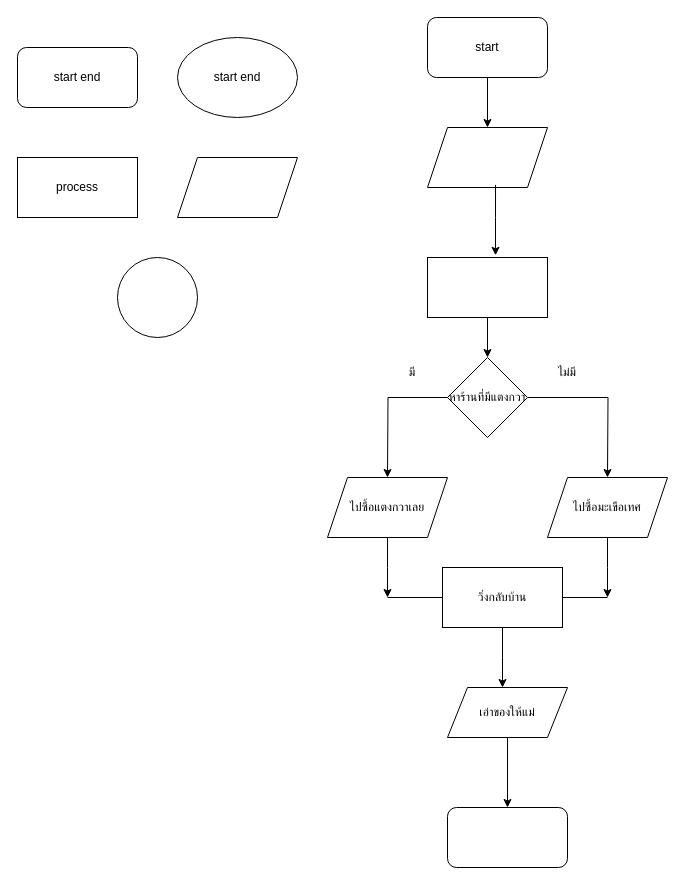
Some shapes in this 685 by 885 pixel diagram are drawn without their labels. The centre of each missing label's shape, as x and y in pixels:
"conector" goes at (157,297).
"end" goes at (507,837).
"input output" goes at (237,187).
"วิ่งไปตลาด" goes at (487,287).
"แม่ให้ไปซ์้อแตงกวา" goes at (487,157).
